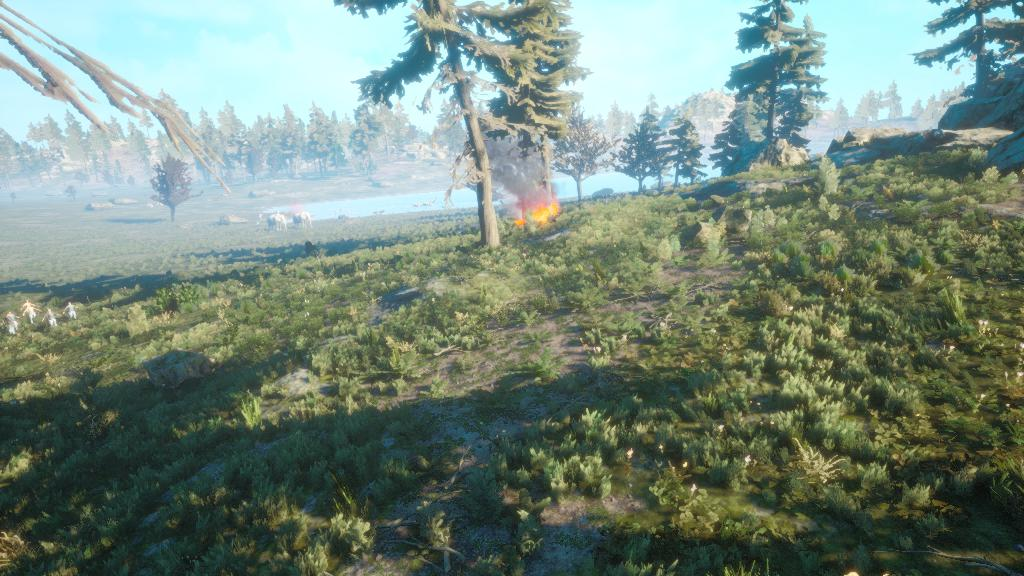Fire: (510, 196, 563, 229)
elephant: (289, 206, 314, 230), (261, 209, 288, 231)
human: (0, 291, 87, 341)
smoke: (484, 142, 552, 193)
